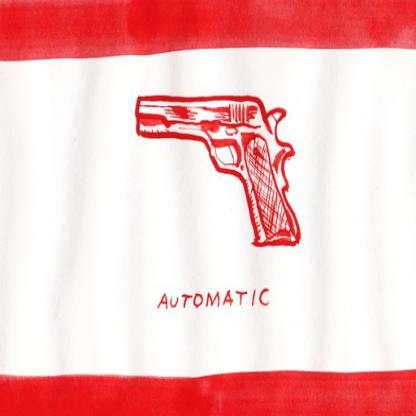gun: (133, 94, 302, 249)
